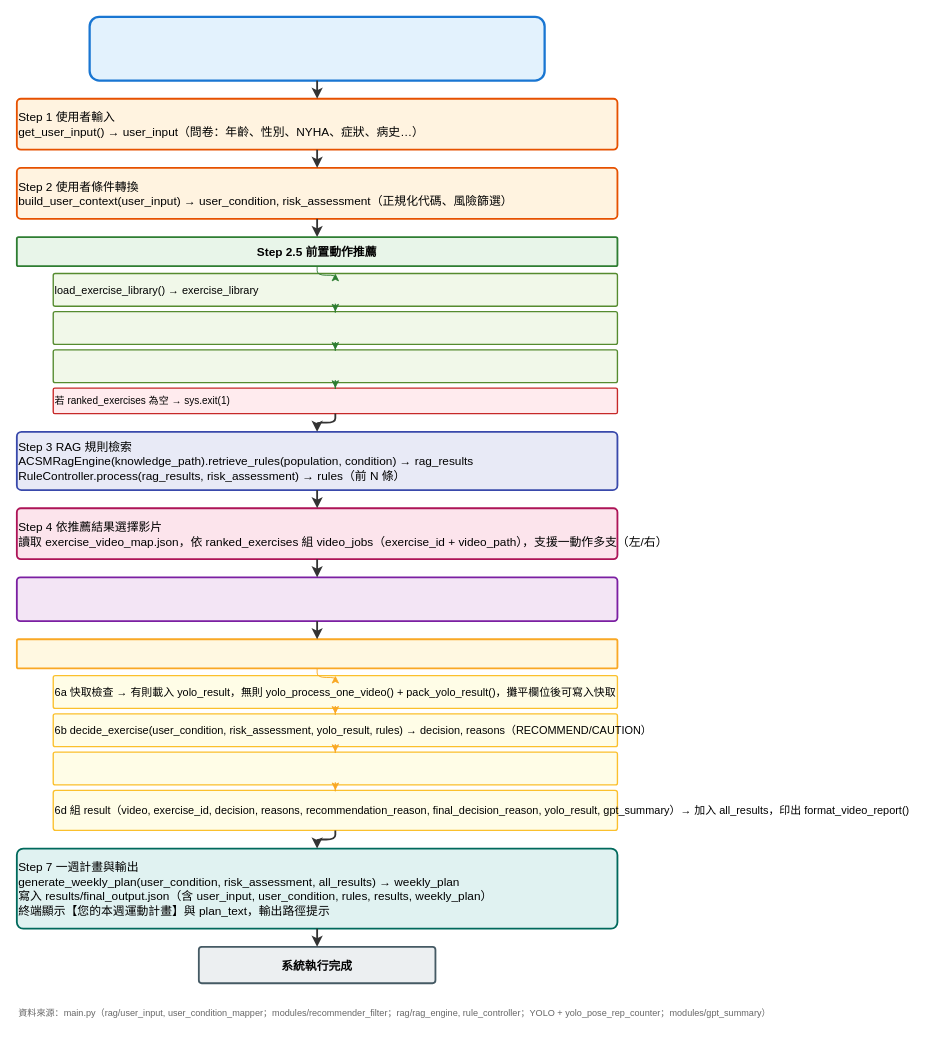
This 925x1041 diagram has some shape labels left out. Here are the shapes that lost their labels. From the top down, the centre of each, then its label:
pixel 316 48: main.py 程式執行流程 AI 個人化健康運動推薦系統
pixel 335 328: hard_filter_exercises(user_state, library) → filtered（通過安全篩選的動作）
pixel 335 366: soft_rank_exercises(user_state, filtered['included']) → ranked_exercises（含推薦理由）
pixel 316 599: Step 5 初始化 YOLO YOLO(YOLO_MODEL_PATH) → yolo_model
pixel 316 653: Step 6 影片分析與安全判斷（對每支 video_jobs 迴圈）
pixel 335 768: 6c GPT 快取檢查 → 有則載入，無則 call_openai_label(...) 產出 gpt_summary，可寫入快取
